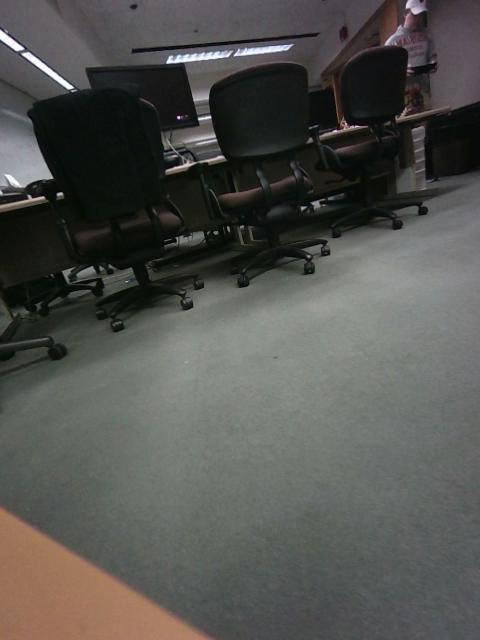block: (335, 325, 394, 399)
